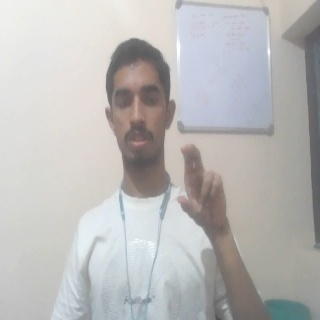Face: (102, 36, 177, 166)
No: (174, 142, 231, 234)
